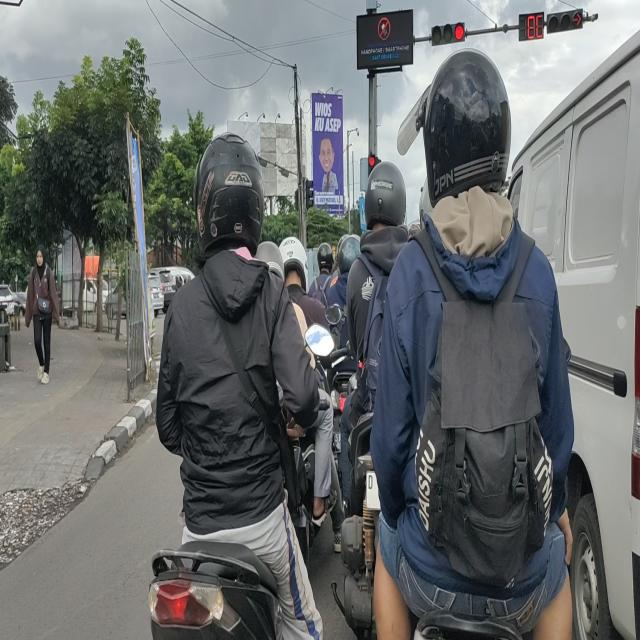helmet: (431, 49, 510, 209), (197, 134, 264, 257), (366, 160, 406, 233), (280, 239, 308, 285), (260, 241, 284, 279), (317, 243, 336, 279), (341, 235, 360, 268)
